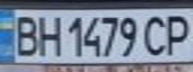1: (63, 12, 84, 57)
4: (81, 12, 103, 57)
7: (100, 14, 121, 57)
9: (115, 14, 142, 57)
B: (9, 12, 42, 57)
C: (139, 11, 172, 57)
H: (33, 12, 63, 57)
P: (160, 11, 193, 56)
